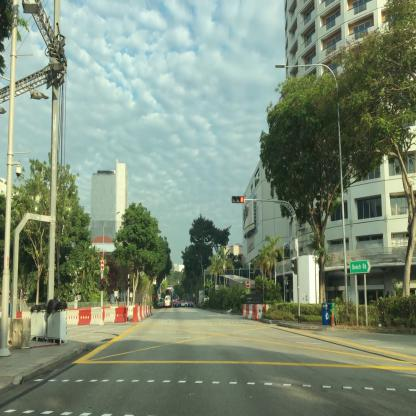red_traffic_light: (231, 195, 244, 204)
